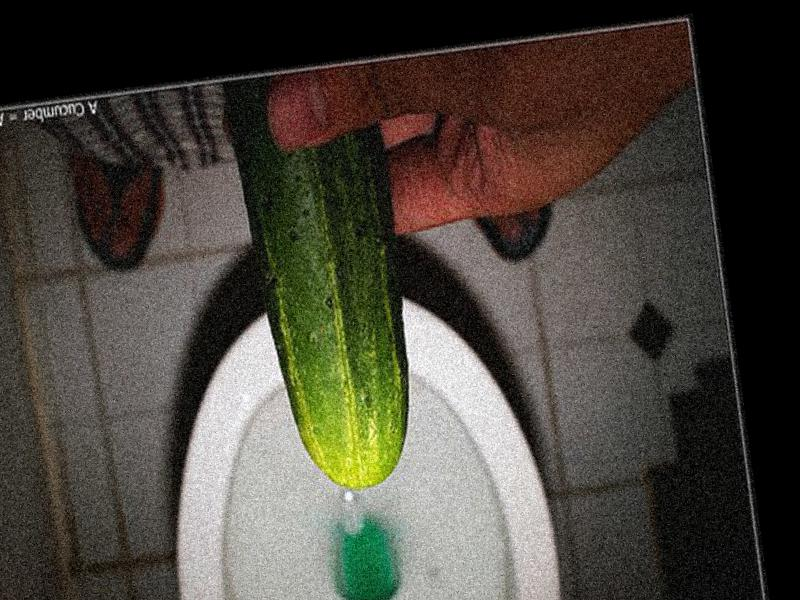Cucumber: (222, 55, 425, 498)
